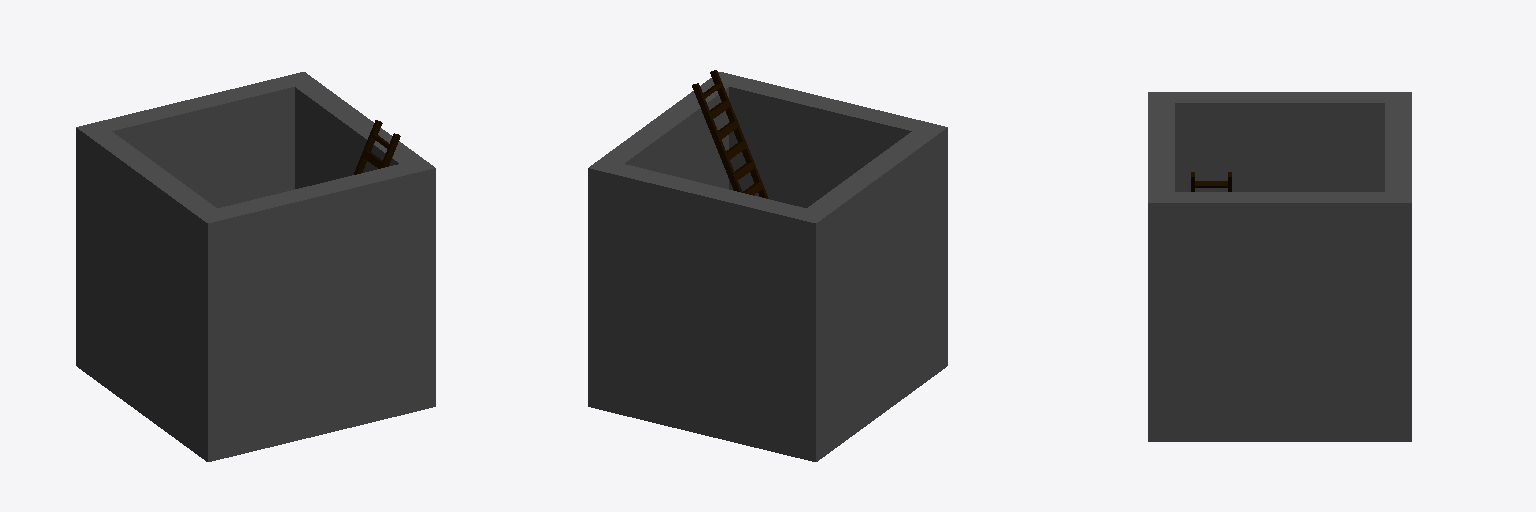
Rendered from Quarry2.obj.
3 renders of one model, left to right at view 1: azimuth 30°, elevation 25°; view 2: azimuth 150°, elevation 25°; view 3: azimuth 270°, elevation 25°, orthographic.
Visible parts, largest first — view 1: Tilebase119, Ladder; view 2: Tilebase119, Ladder; view 3: Tilebase119.
Boxes of the visible parts, x1=… form: Tilebase119: x1=76, y1=72, x2=435, y2=461; Ladder: x1=354, y1=120, x2=400, y2=174; Tilebase119: x1=588, y1=72, x2=947, y2=461; Ladder: x1=692, y1=70, x2=768, y2=198; Tilebase119: x1=1148, y1=92, x2=1411, y2=441.
Bounding box in the file's own units: 10 × 10.92 × 10.